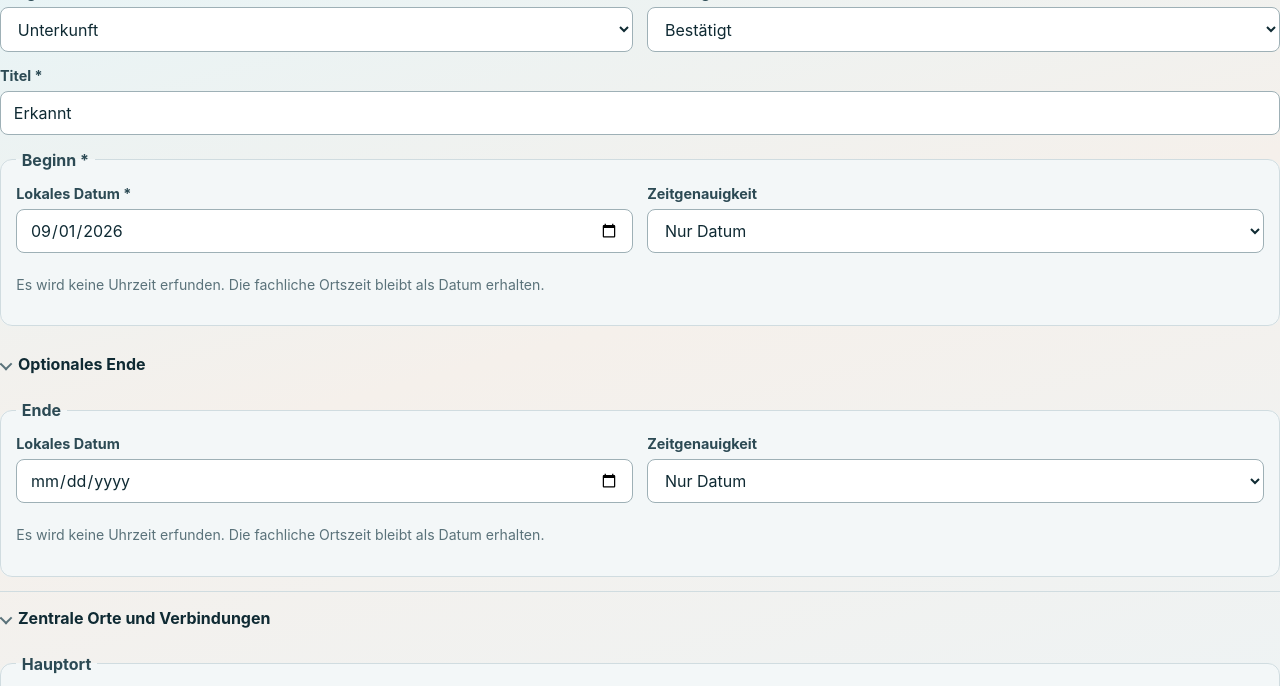
it: strukturierter Kandidateneditor › fügt bei einem Verkehrsereignis wiederholbare, geordnete Teilstrecken hinzu
Select "Bahn" in the dropdown labelled "Ereignisart" at (316, 30), box [0,7,633,52]
(page scrolled)
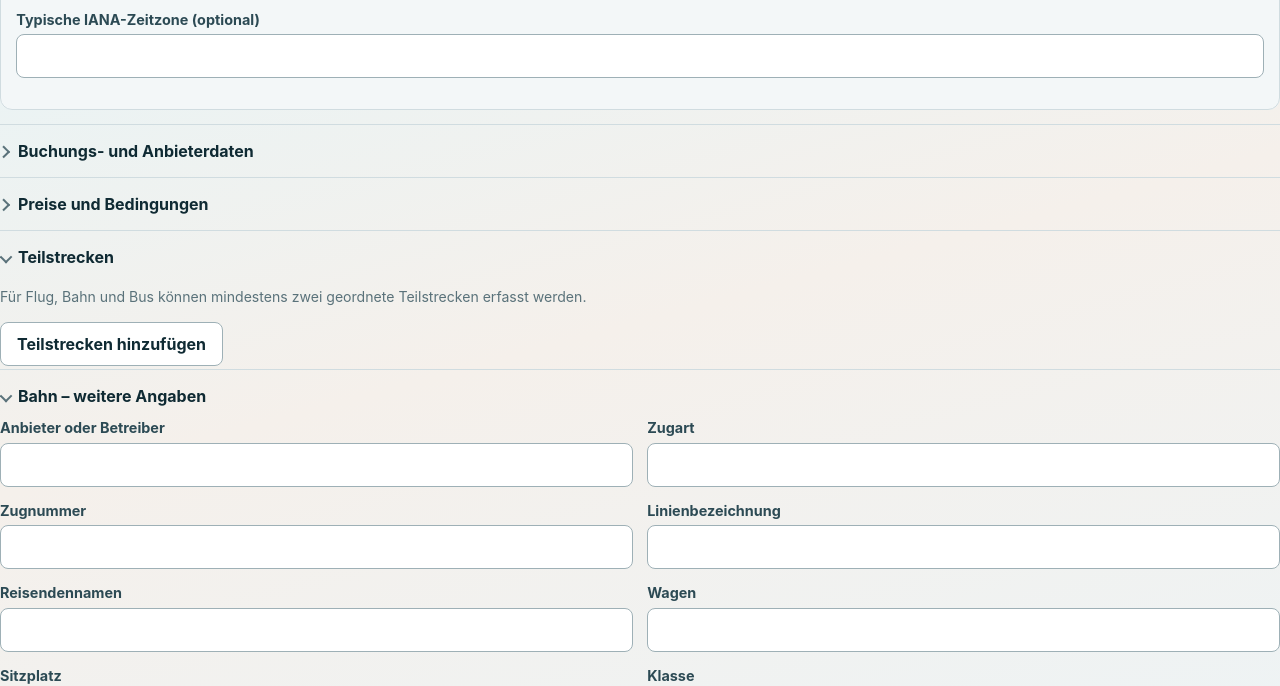
Click the button "Teilstrecken hinzufügen" at (112, 344), box [0,322,223,366]
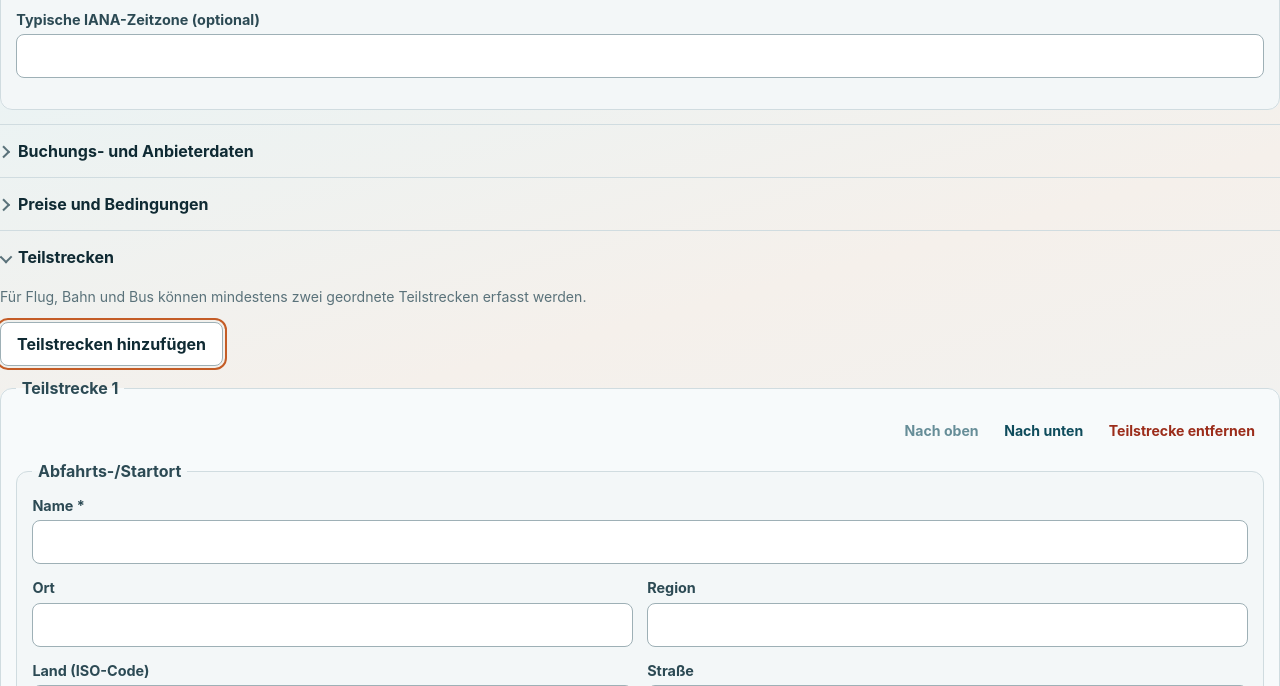
Now the text "Teilstrecke 1" is shown, box [16,378,124,398]
Now the button "Nach oben" is disabled, box [896,413,987,449]
Now the number of buttons "Teilstrecke entfernen" is 2
